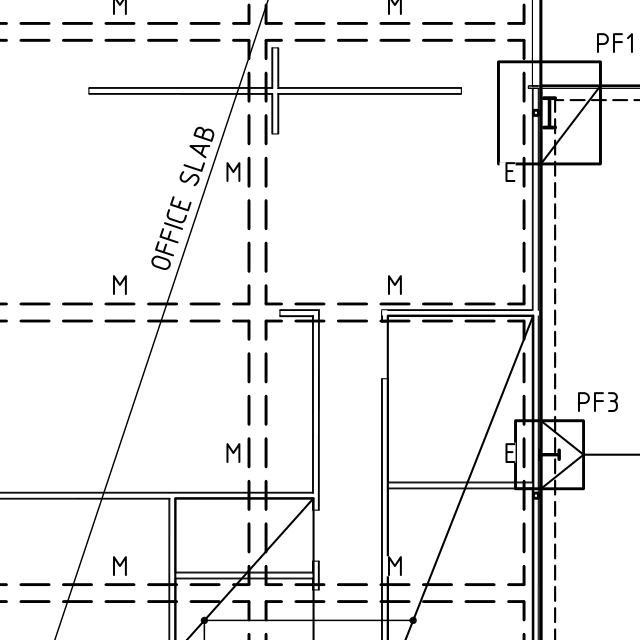E: (490, 148, 522, 189), (498, 434, 522, 467)
M: (214, 420, 253, 473), (96, 267, 143, 306), (363, 273, 410, 308), (104, 550, 139, 591), (220, 157, 251, 193), (381, 546, 408, 581)
PF1: (577, 20, 640, 69)
PF3: (571, 379, 628, 418)
